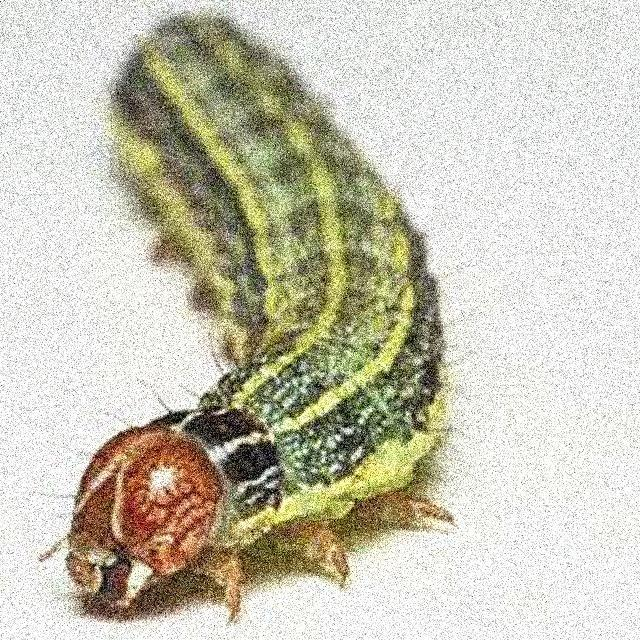Plaga: (33, 1, 460, 620)
